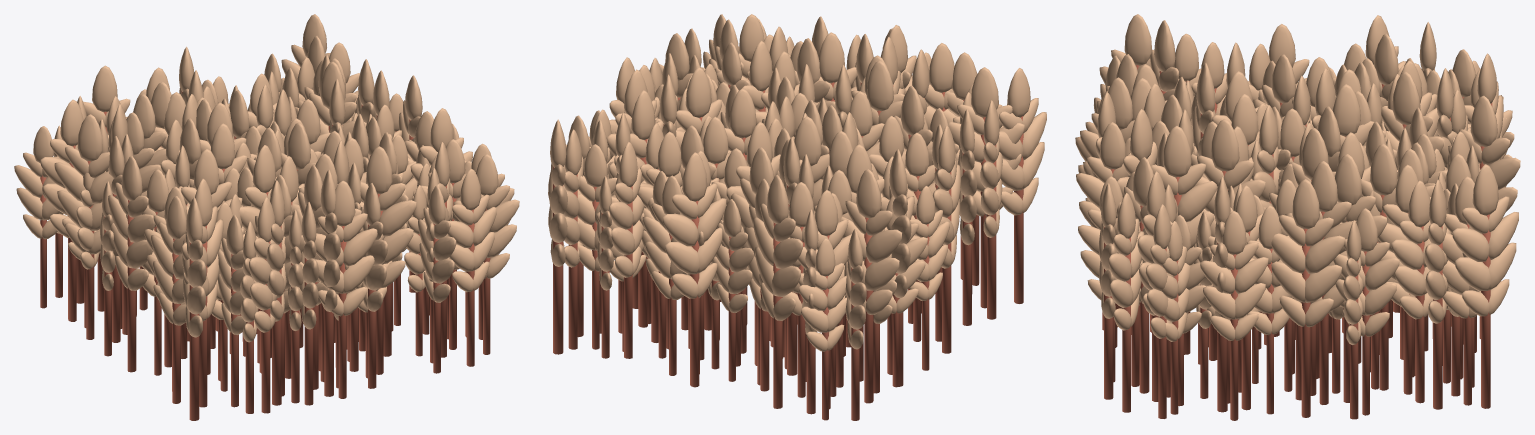
Rendered from Wheat_Biggest.fbx.
3 views of the same model, side by side, from view 1: azimuth 30°, elevation 25°; view 2: azimuth 150°, elevation 25°; view 3: azimuth 270°, elevation 25° (orthographic). The views are drawn at different scales.
Parts seen in each view (by area): view 1: Wheat_Biggest; view 2: Wheat_Biggest; view 3: Wheat_Biggest.
Boxes of the visible parts, x1,y1,x2,y2 form: Wheat_Biggest: [14, 14, 519, 420]; Wheat_Biggest: [548, 14, 1046, 420]; Wheat_Biggest: [1075, 14, 1520, 420].
Size of the model in its own units: 108 by 68.34 by 109.
